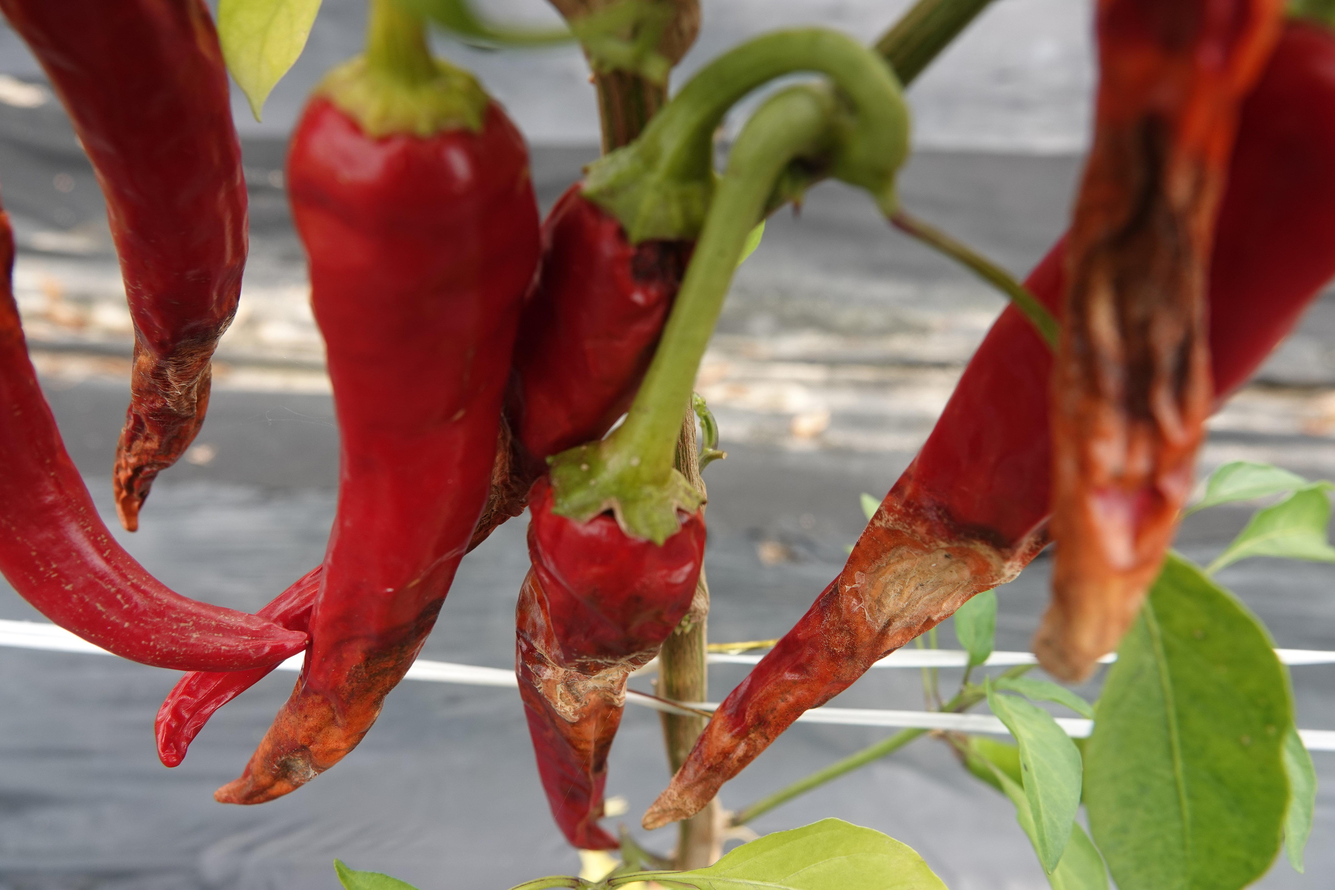Busuk Buah Antraknosa: (644, 0, 1335, 833), (210, 54, 548, 805), (1025, 0, 1294, 689), (2, 0, 260, 532), (512, 450, 709, 854)
